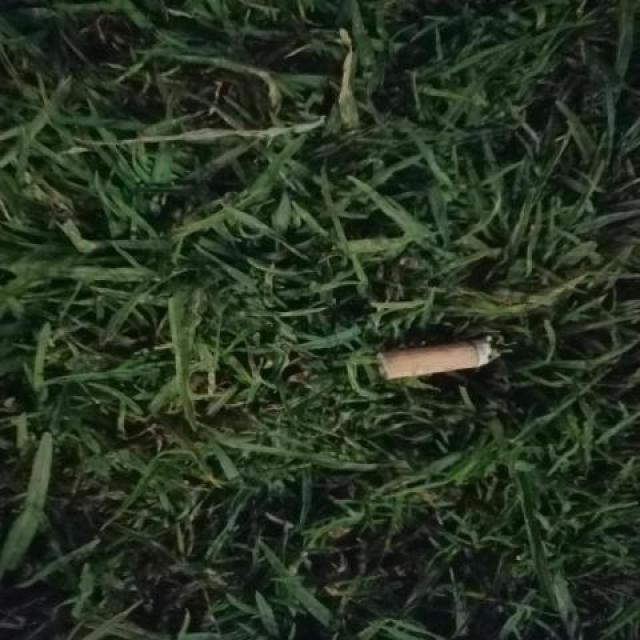non-organic waste: (373, 331, 502, 384)
